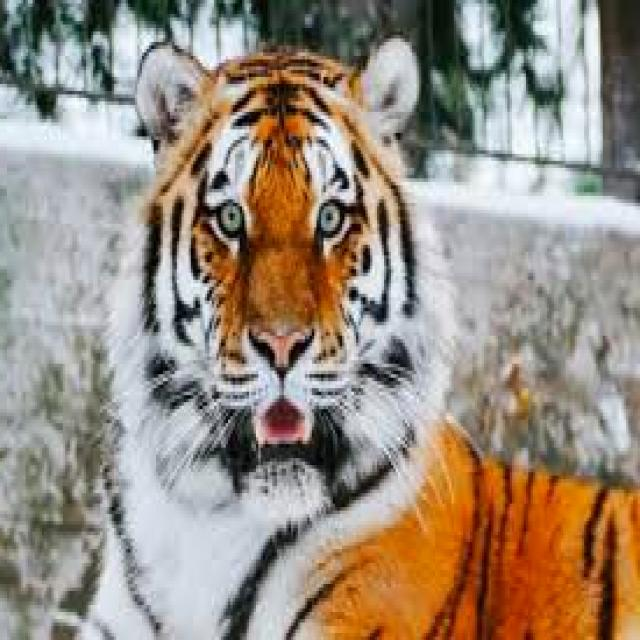tiger: (79, 38, 640, 637)
